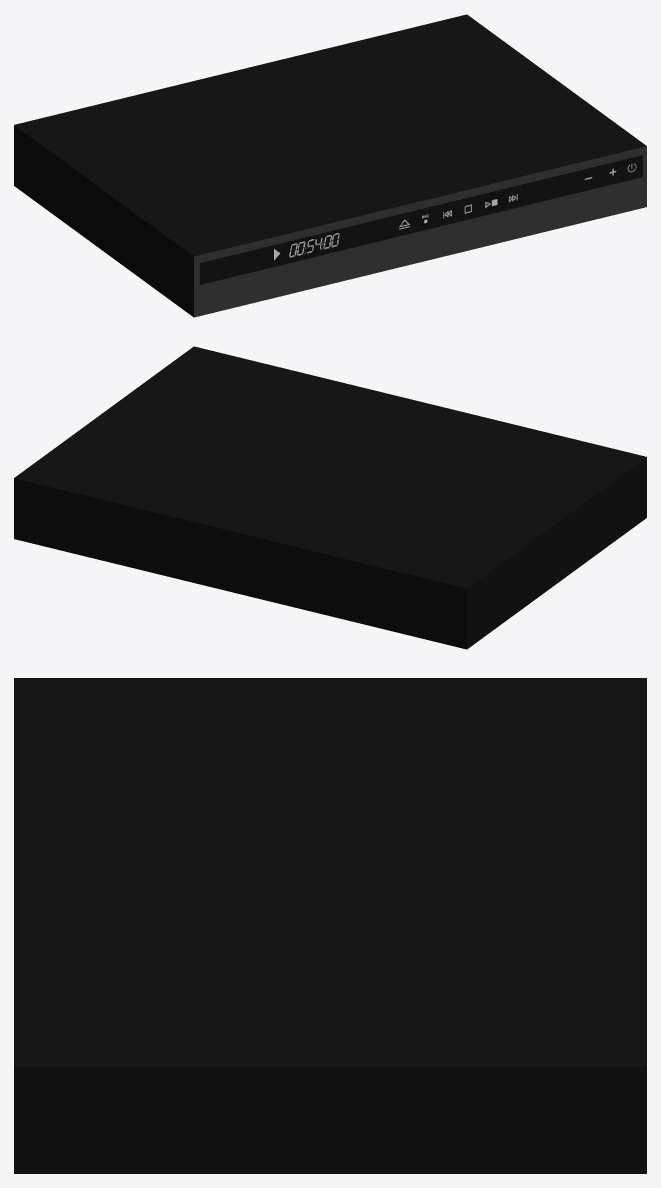
The model's file is sound2a.FBX.
3 renders of one model, top to bottom at view 1: azimuth 30°, elevation 25°; view 2: azimuth 150°, elevation 25°; view 3: azimuth 270°, elevation 25°, orthographic. The views are drawn at different scales.
Parts seen in each view (by area): view 1: sound2a; view 2: sound2a; view 3: sound2a.
Boxes of the visible parts, box(x1,y1,x2,y2) form: sound2a: box(14, 14, 646, 317); sound2a: box(14, 346, 646, 649); sound2a: box(14, 678, 646, 1173).
Size of the model in its own units: 0.42 by 0.289 by 0.059.
